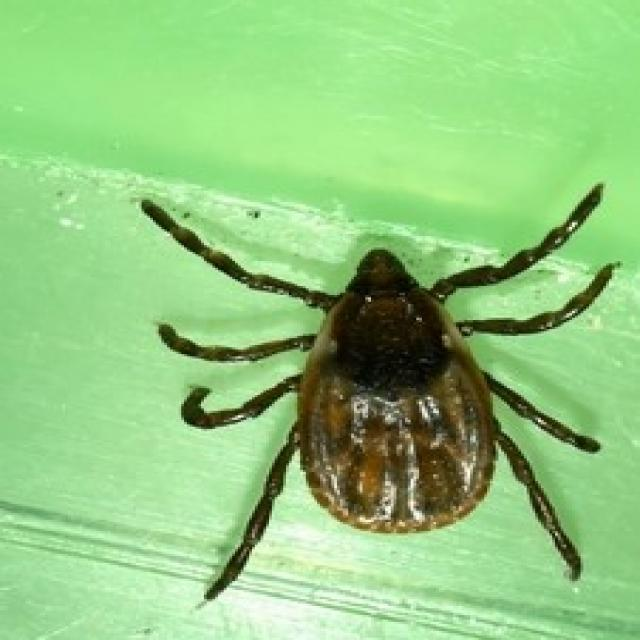Rhipicephalus Sanguineus-F: (139, 182, 617, 604)
